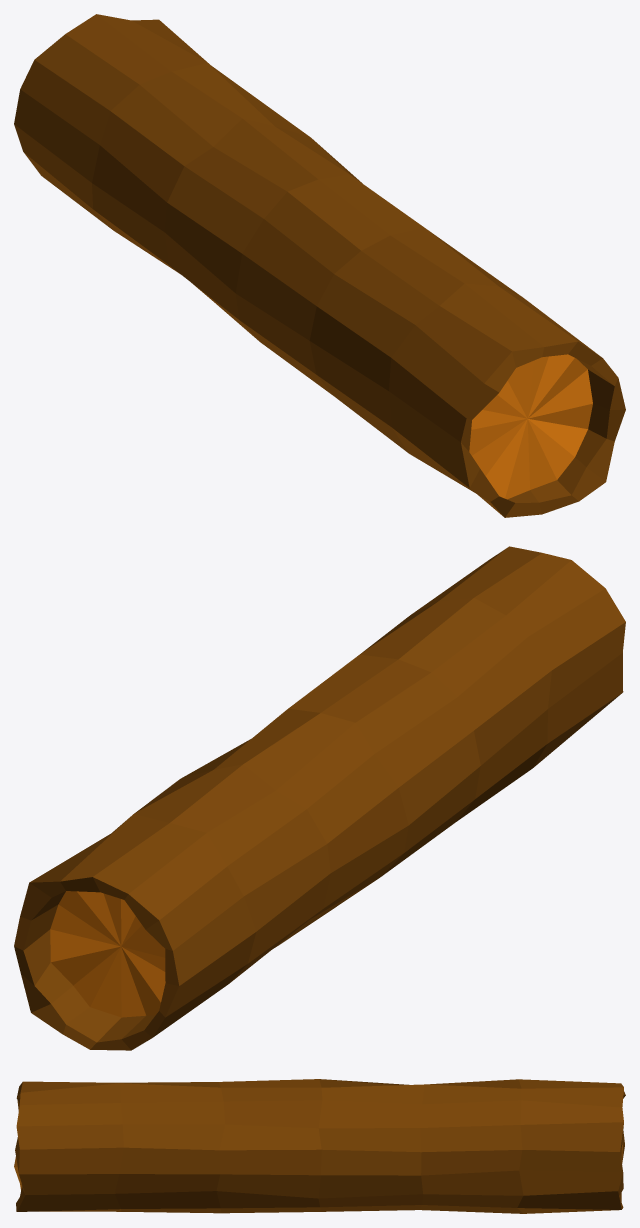
File: Log.fbx
3 views of the same model, one above another, from view 1: azimuth 30°, elevation 25°; view 2: azimuth 150°, elevation 25°; view 3: azimuth 270°, elevation 25° (orthographic). The views are drawn at different scales.
Parts seen in each view (by area): view 1: Cylinder; view 2: Cylinder; view 3: Cylinder.
Boxes of the visible parts, left/top/right/bottom form: Cylinder: left=14, top=14, right=625, bottom=517; Cylinder: left=14, top=546, right=625, bottom=1050; Cylinder: left=14, top=1079, right=625, bottom=1213.
Bounding box in the file's own units: 0.5027 × 0.5213 × 2.32.
